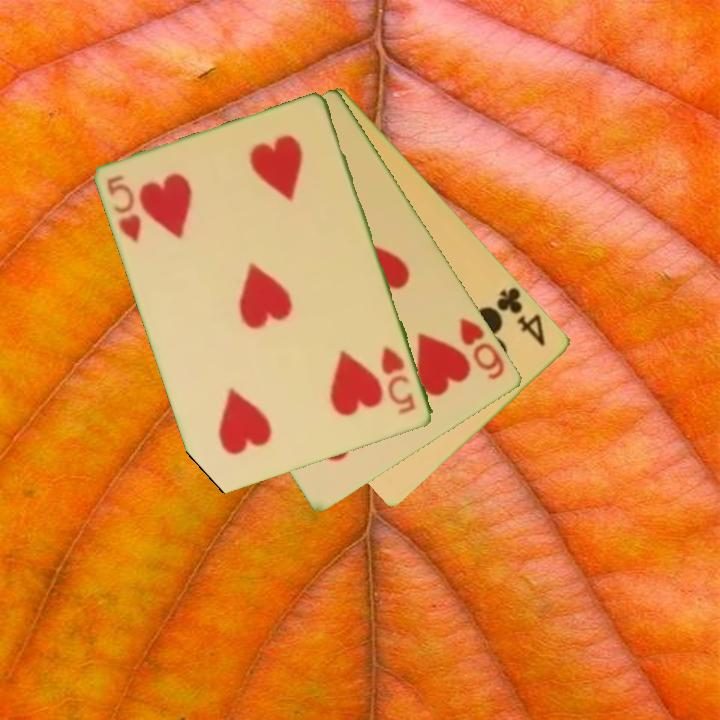4c: (493, 284, 549, 350)
5h: (103, 171, 145, 247), (378, 343, 419, 418)
6h: (456, 314, 509, 383)
